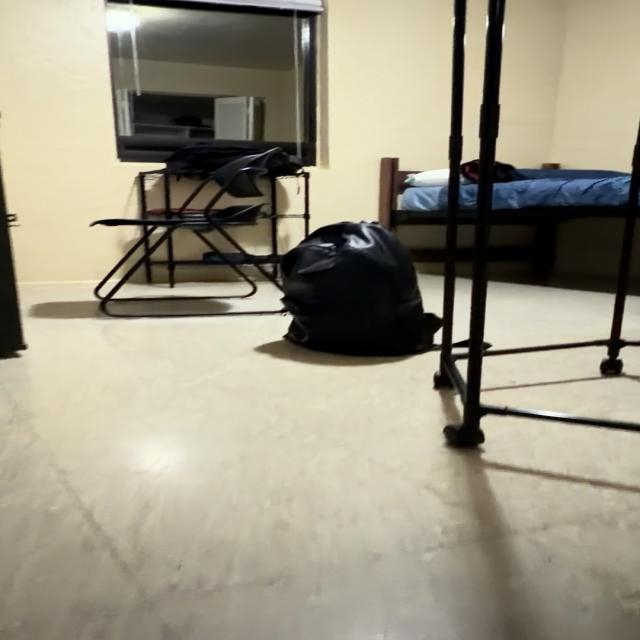backpack: (281, 222, 441, 356), (165, 142, 263, 178), (266, 149, 302, 177)
